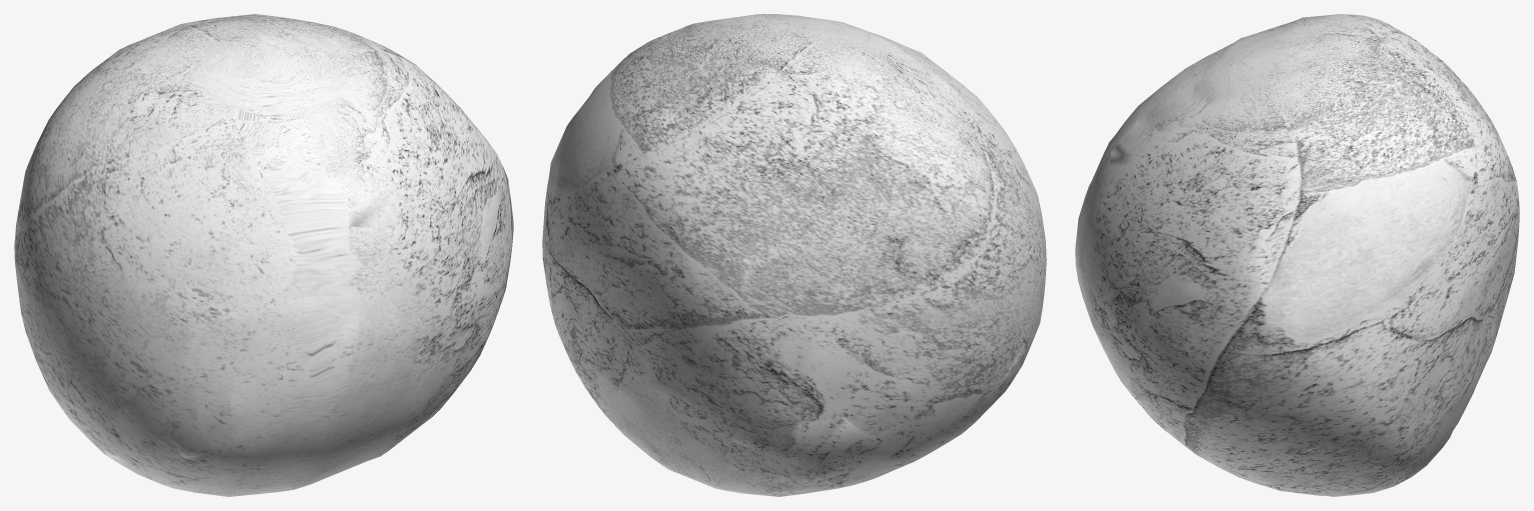
File: pallas.gltf
The picture shows the model from 3 angles, left to right: view 1: azimuth 30°, elevation 25°; view 2: azimuth 150°, elevation 25°; view 3: azimuth 270°, elevation 25°; orthographic projection. The views are drawn at different scales.
Visible parts, largest first — view 1: pallas; view 2: pallas; view 3: pallas.
Boxes of the visible parts, x1,y1,x2,y2 form: pallas: (14, 14, 513, 496); pallas: (542, 14, 1046, 496); pallas: (1075, 14, 1519, 496).
Bounding box in the file's own units: 584 × 543 × 514.
1 material, 1 textured.
